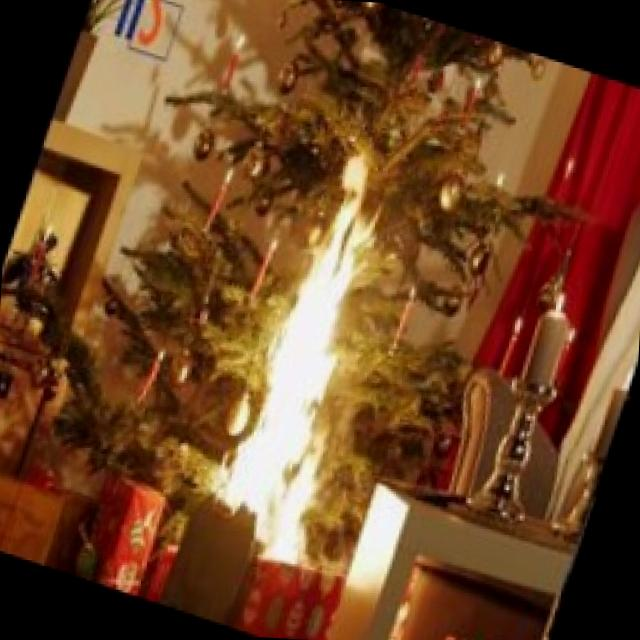fire: (128, 105, 486, 634)
